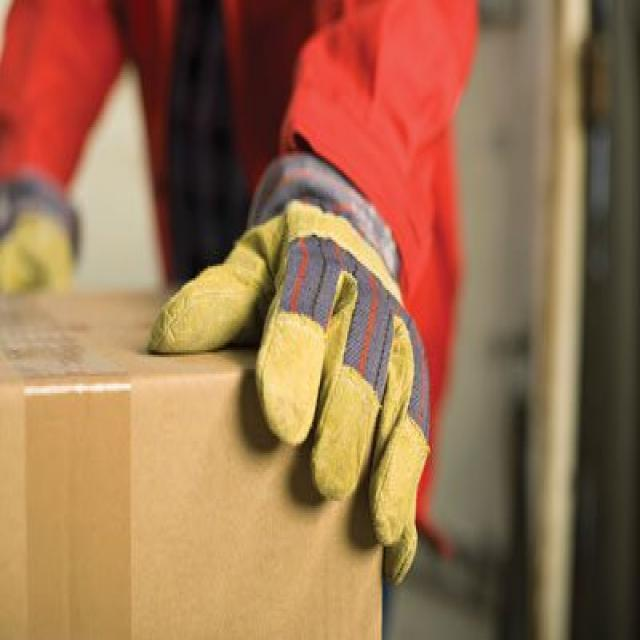Gloves: (146, 148, 443, 593)
